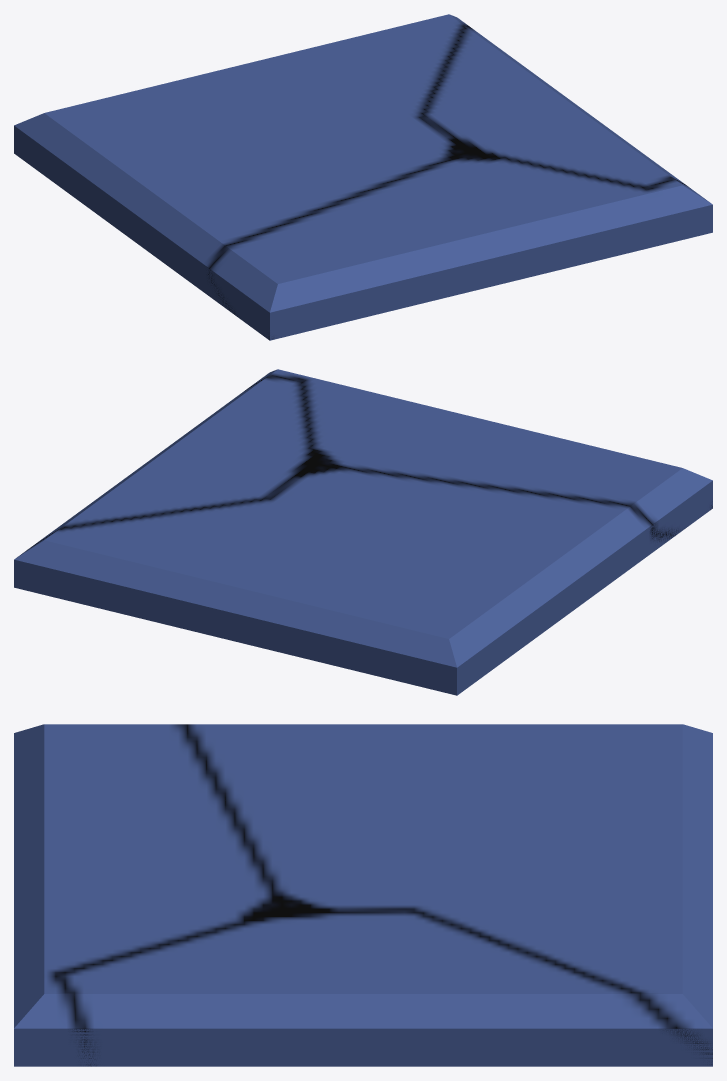
File: 3D_trap_lava_chasm 1.fbx
3 views of the same model, one above another, from view 1: azimuth 30°, elevation 25°; view 2: azimuth 150°, elevation 25°; view 3: azimuth 270°, elevation 25° (orthographic). The views are drawn at different scales.
Visible parts, largest first — view 1: SM_trap_Chasm_base, SM_trap_Chasm_fracture1, SM_trap_lava_chasm1; view 2: SM_trap_Chasm_base, SM_trap_Chasm_fracture1, SM_trap_lava_chasm1; view 3: SM_trap_Chasm_base, SM_trap_lava_chasm1, SM_trap_Chasm_fracture1.
Part boxes in pixels (x1,y1,x2,y2): SM_trap_Chasm_base: (14,14,712,339); SM_trap_Chasm_fracture1: (14,126,712,340); SM_trap_lava_chasm1: (14,128,269,339); SM_trap_Chasm_base: (14,369,712,694); SM_trap_Chasm_fracture1: (14,481,712,695); SM_trap_lava_chasm1: (14,562,583,695); SM_trap_Chasm_base: (14,724,712,1066); SM_trap_lava_chasm1: (14,1031,712,1066); SM_trap_Chasm_fracture1: (14,1029,712,1066).
Bounding box in the file's own units: 100 × 9.46 × 100.
2 materials, 2 textured.
